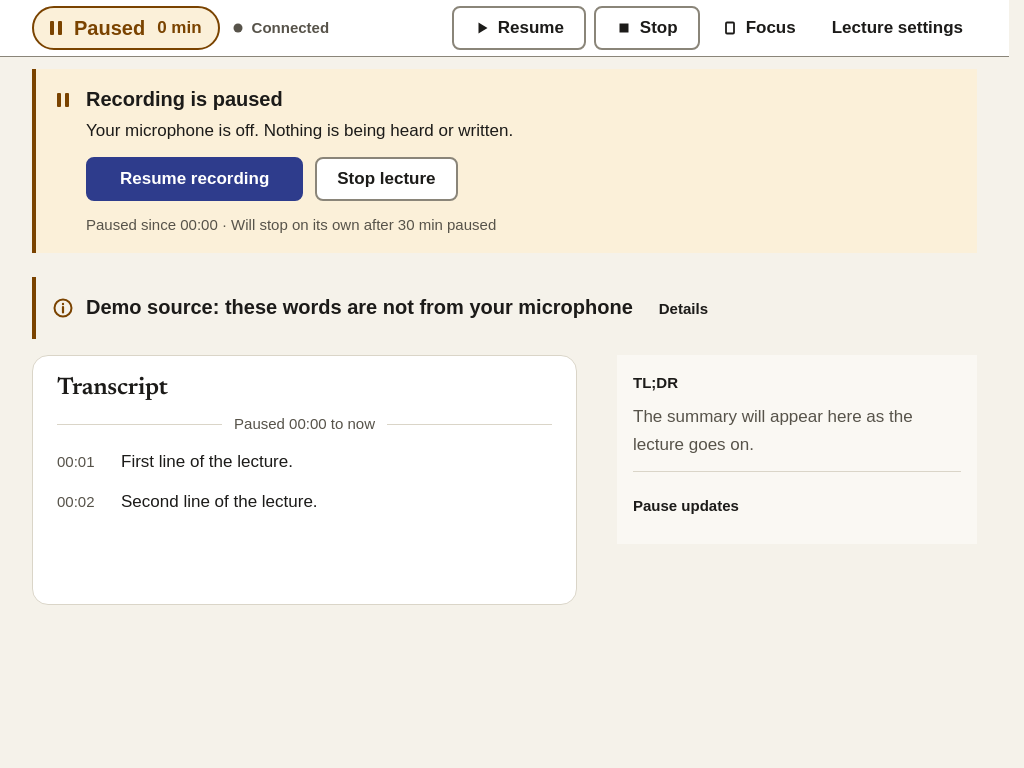
Test: Paused state (UX section 3) › AC7: Stop confirm traps focus, Escape keeps paused and returns focus to Stop, Stop confirms
Click the button "Stop lecture".
click(386, 179)  # box left=315, top=157, right=458, bottom=201
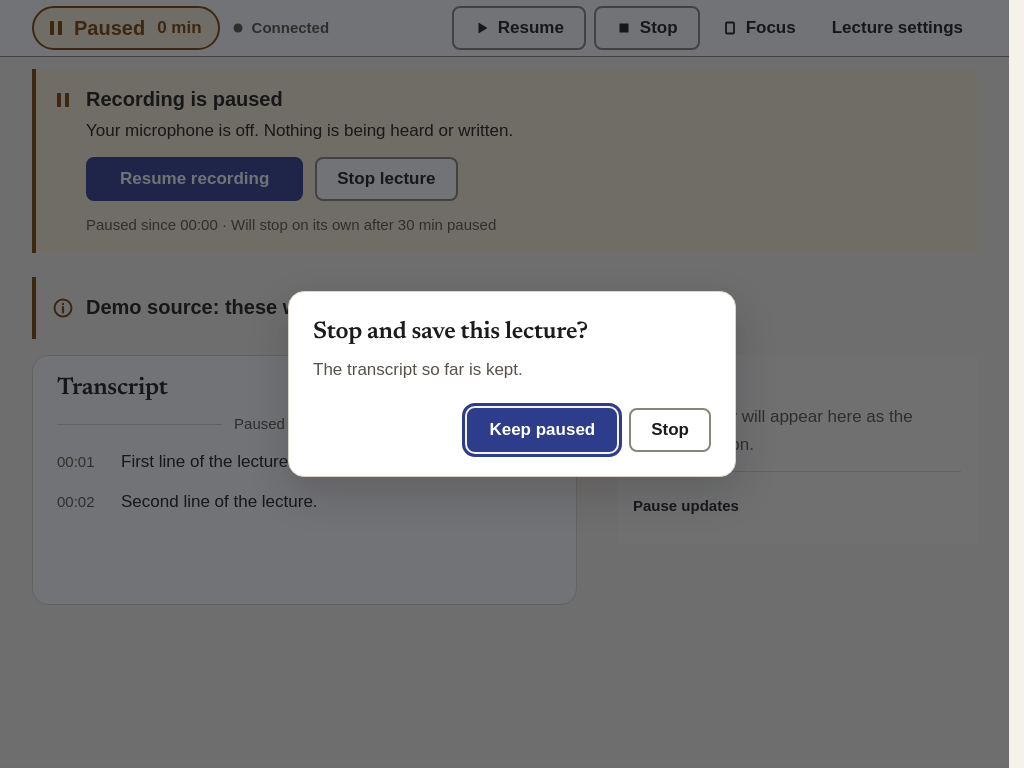
Press Tab
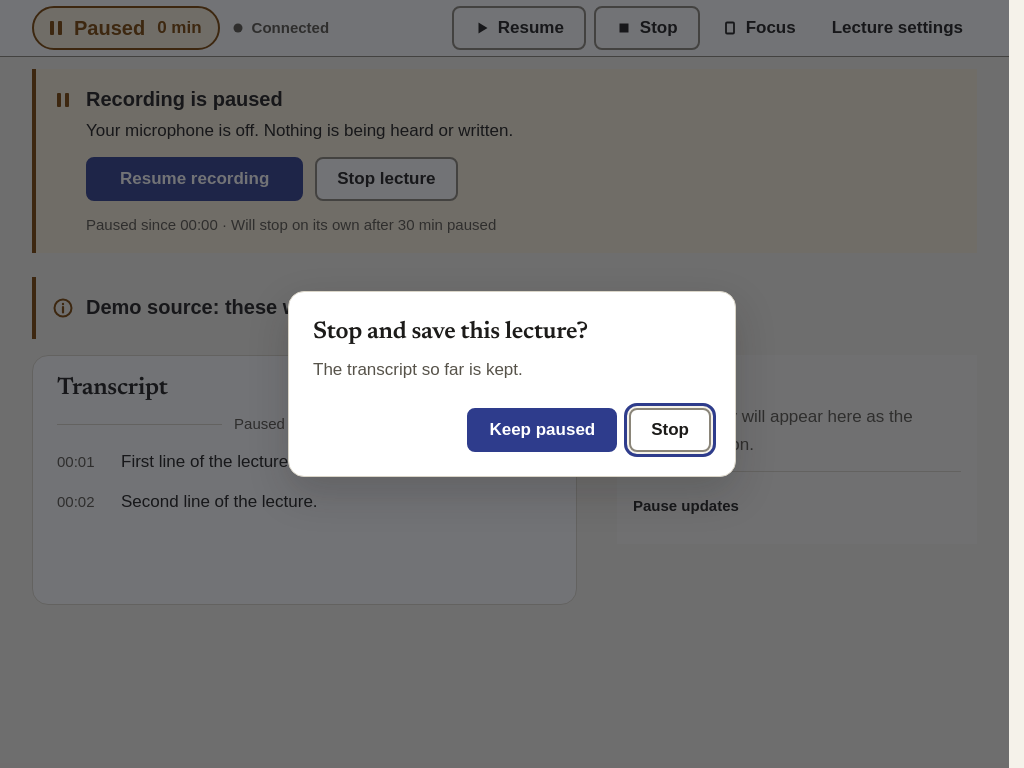
Press Tab
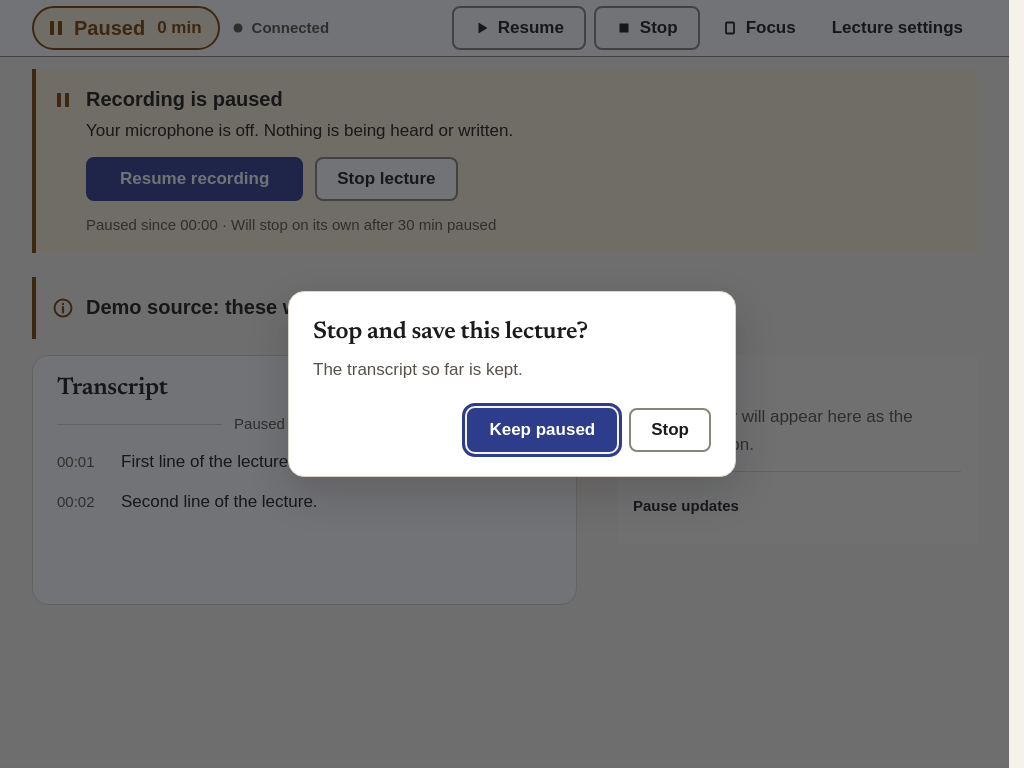
Press Escape
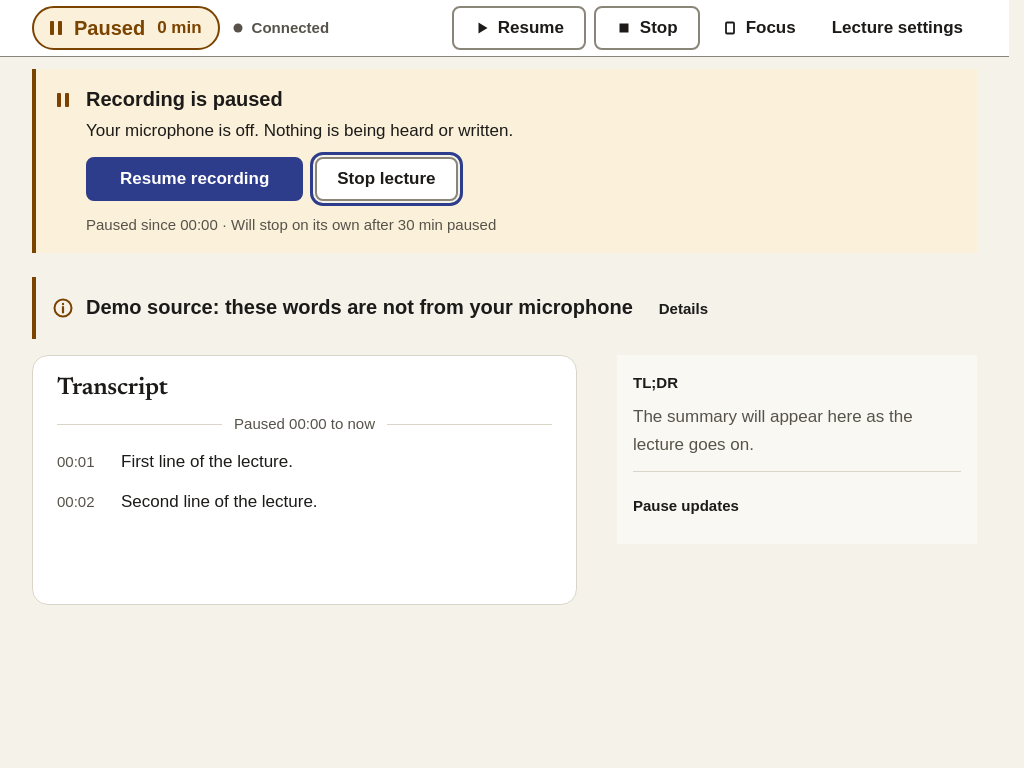
Check: the text with test id "state-label" reads "Paused", box left=74, top=17, right=145, bottom=39
Check: the dialog is gone
Click the button "Stop lecture".
click(386, 179)  # box left=315, top=157, right=458, bottom=201
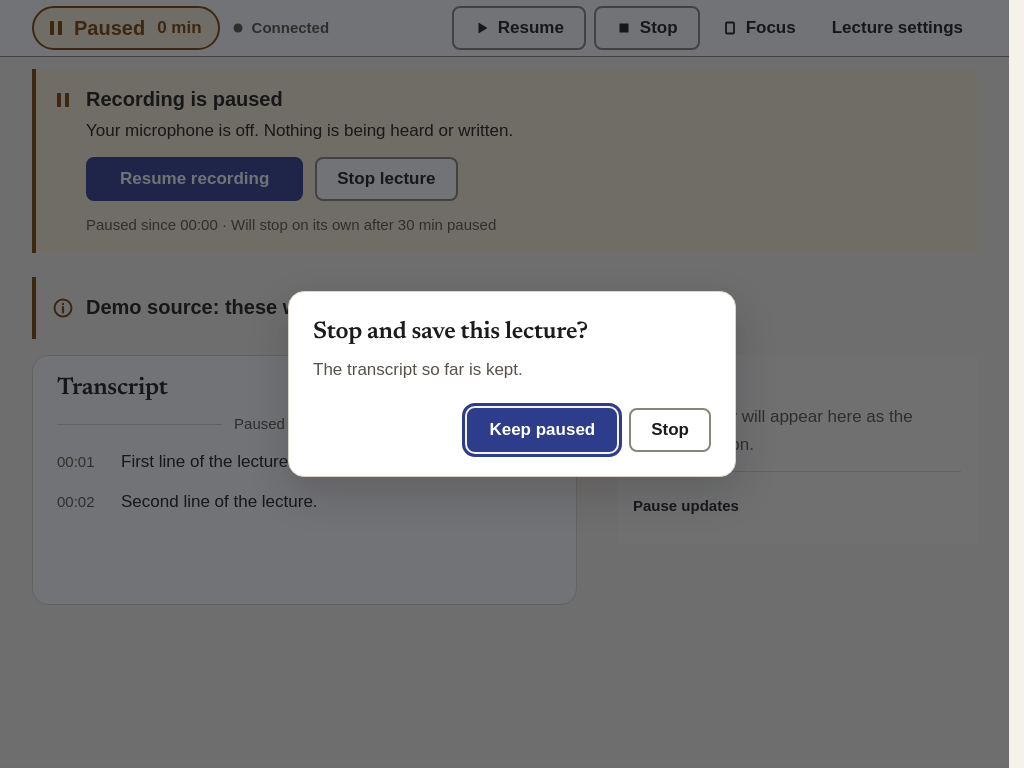
Click the button "Stop".
click(670, 430)  # box left=629, top=408, right=711, bottom=452
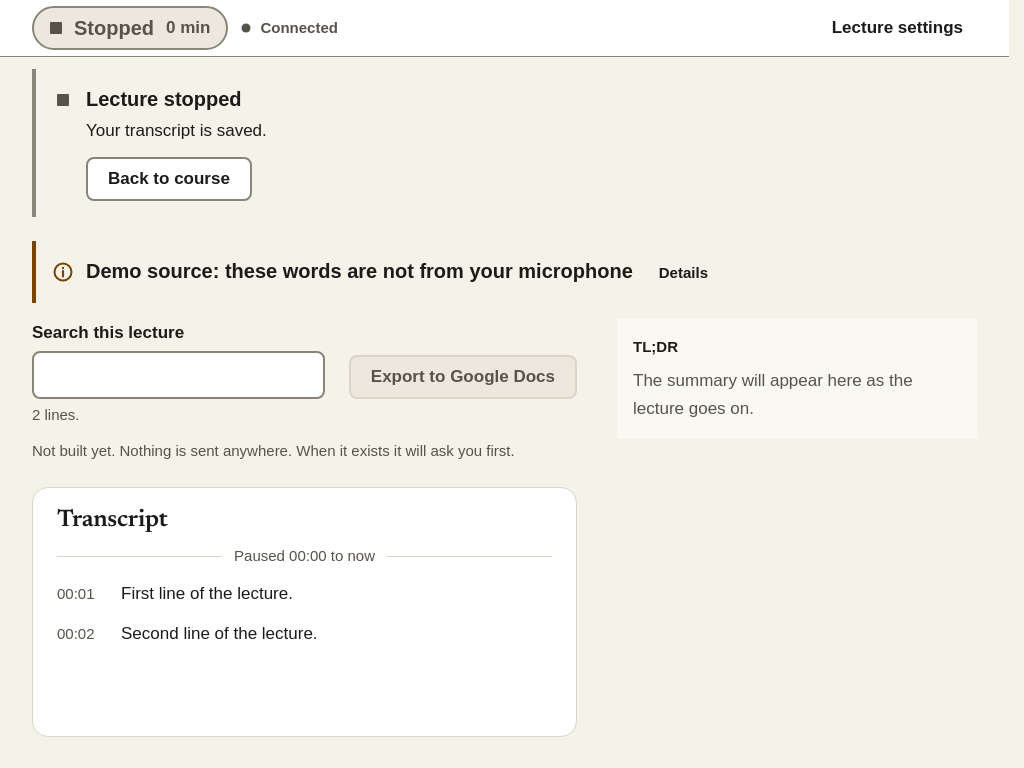
Check: the text with test id "state-label" reads "Stopped", box left=74, top=17, right=154, bottom=39
